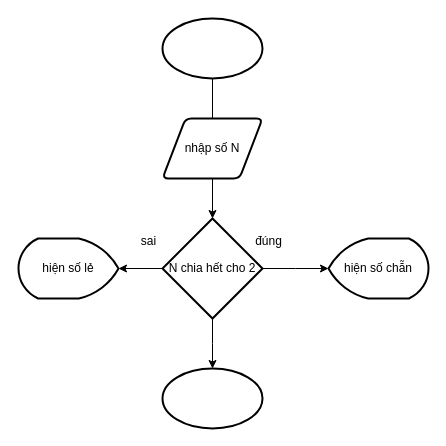
This 446x446 diagram has some shape labels left out. The shapes that lost their labels are listed below. From the top down, each one's centre as x and y in pixels, then its label:
(x=212, y=48): start
(x=212, y=398): End
